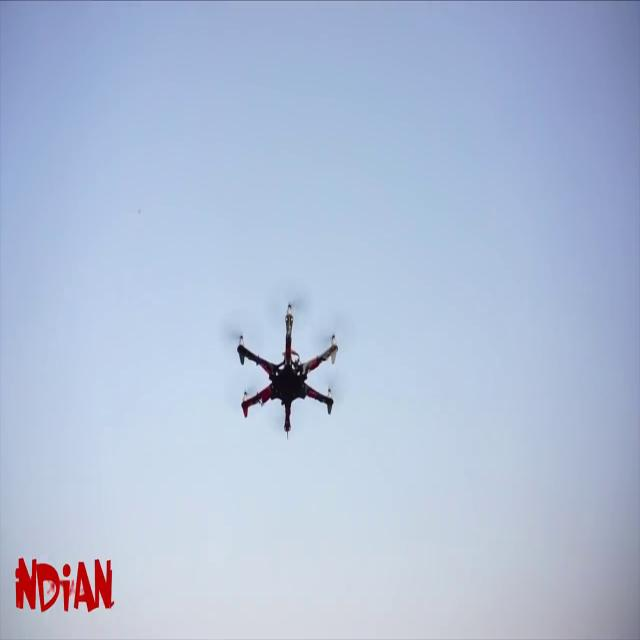drone: (226, 300, 364, 449)
